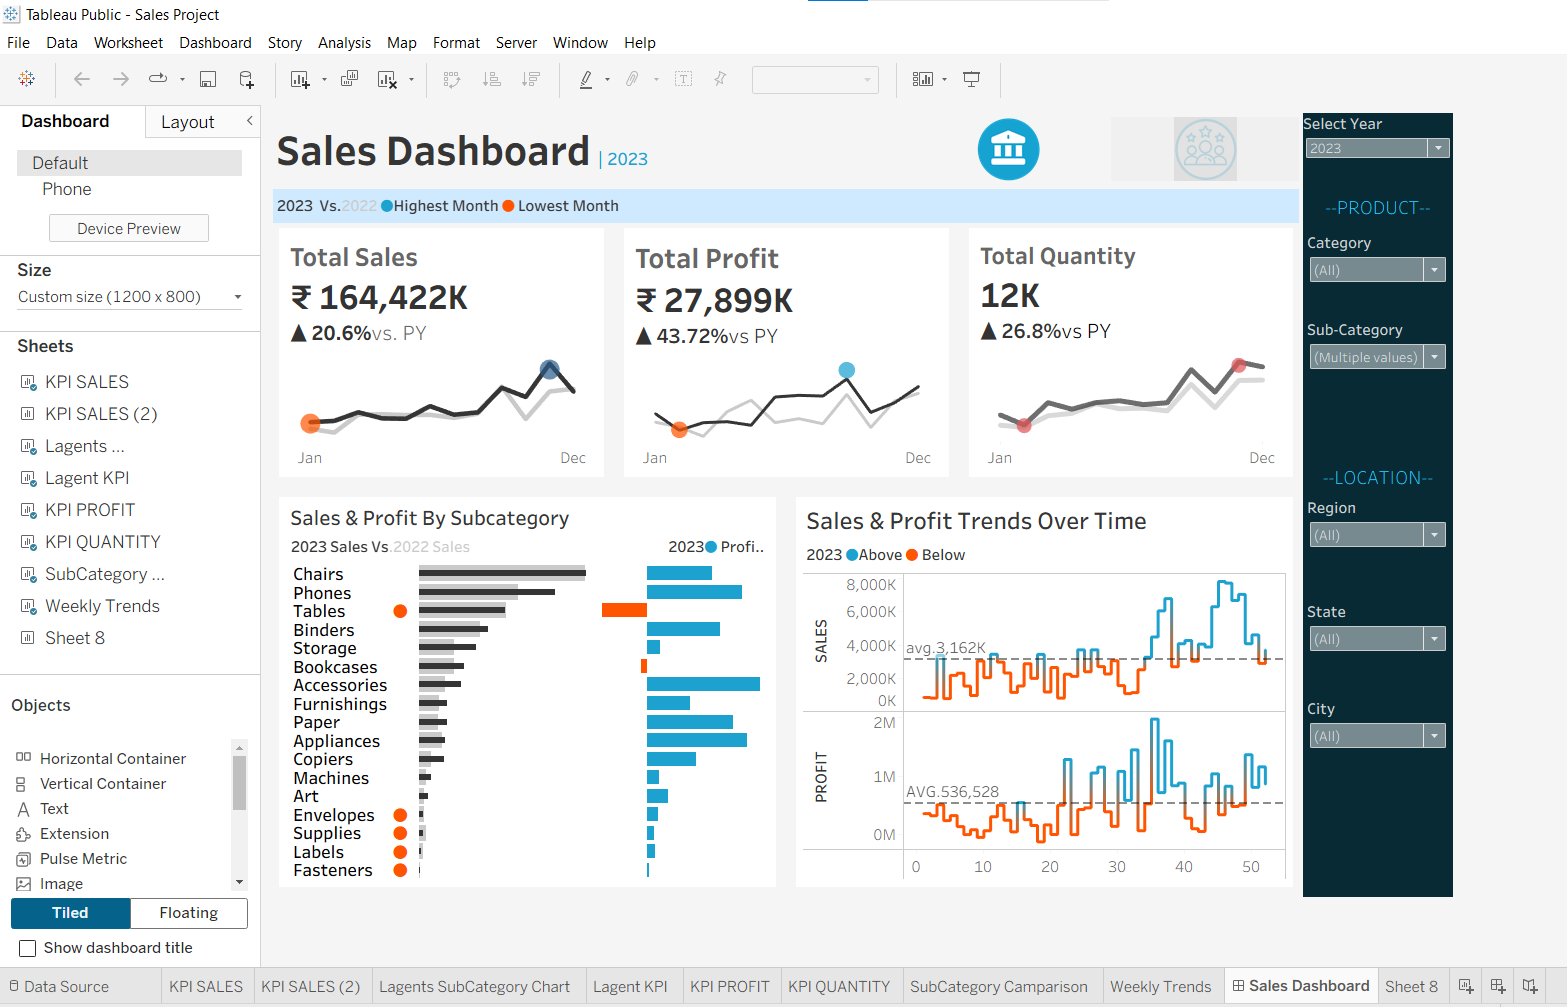

This screenshot's page, from the dashboard's own definition file:
{"tool":"tableau","page":{"name":"Sales Dashboard","canvas":[1200,800],"ordinal":0},"visuals":[{"type":"text","box":[8,8,641,72.4]},{"type":"dashboard-object","box":[649,8,197,72]},{"type":"dashboard-object","box":[846,8,196,72]},{"type":"parameter","param":"[Parameters].[ORDER DATE (Year) Parameter]","box":[1042,8,150,72]},{"type":"text","box":[1042,80,150,43]},{"type":"worksheet","title":"Lagent KPI ","mark":"Automatic","box":[8,80.4,1034,42.2]},{"type":"worksheet","title":"KPI SALES","mark":"Line","rows":["Calculation_1510113316237705222"],"cols":["Order Date"],"box":[8,123,345,259]},{"type":"worksheet","title":"KPI PROFIT","mark":"Automatic","rows":["Calculation_1510113316254085140"],"cols":["Order Date"],"box":[353,123,345,259]},{"type":"worksheet","title":"KPI QUANTITY","mark":"Automatic","rows":["Calculation_1510113316254375957"],"cols":["Order Date"],"box":[698,123,344,259]},{"type":"filter","title":"KPI SALES","param":"[federated.1n55flx0kn70yv1byavly0yhwqvj].[none:Category:nk]","box":[1042,123,150,87]},{"type":"filter","title":"KPI SALES","param":"[federated.1n55flx0kn70yv1byavly0yhwqvj].[none:Sub-Category:nk]","box":[1042,210,150,145]},{"type":"text","box":[1042,355,150,39]},{"type":"filter","title":"KPI SALES","param":"[federated.1n55flx0kn70yv1byavly0yhwqvj].[none:Region:nk]","box":[1042,394,150,104]},{"type":"text","box":[538,395,491,47]},{"type":"text","box":[22,396,489,32]},{"type":"worksheet","title":"Lagents SubCategory Chart","mark":"Automatic","box":[22,428,378,27]},{"type":"text","box":[400,428,111,27]},{"type":"text","box":[538,442,491,33]},{"type":"worksheet","title":"SubCategory Camparison","mark":"Bar","rows":["Sub-Category","Calculation_1510113316353425434"],"cols":["Calculation_1510113316225413123","Calculation_1510113316224004098","Calculation_1510113316252643342"],"box":[22,455,489,323]},{"type":"worksheet","title":"Weekly Trends","mark":"Automatic","rows":["Calculation_1510113316224004098","Calculation_1510113316252643342"],"cols":["Order Date"],"box":[538,475,491,304]},{"type":"filter","title":"KPI SALES","param":"[federated.1n55flx0kn70yv1byavly0yhwqvj].[none:State:nk]","box":[1042,498,150,97]},{"type":"filter","title":"KPI SALES","param":"[federated.1n55flx0kn70yv1byavly0yhwqvj].[none:City:nk]","box":[1042,595,150,173]}]}

Visuals, with their boxes on the page's 1200x800 design canvas (x1, y1, x2, y2). These are canvas units, not pixel positions in the 1567x1007 screenshot, which may show the page scaled, cropped or inside an application window:
text: left=8, top=8, right=649, bottom=80
dashboard-object: left=649, top=8, right=846, bottom=80
dashboard-object: left=846, top=8, right=1042, bottom=80
parameter: left=1042, top=8, right=1192, bottom=80
text: left=1042, top=80, right=1192, bottom=123
"Lagent KPI " worksheet: left=8, top=80, right=1042, bottom=123
"KPI SALES" worksheet (Line marks): left=8, top=123, right=353, bottom=382
"KPI PROFIT" worksheet: left=353, top=123, right=698, bottom=382
"KPI QUANTITY" worksheet: left=698, top=123, right=1042, bottom=382
"KPI SALES" filter: left=1042, top=123, right=1192, bottom=210
"KPI SALES" filter: left=1042, top=210, right=1192, bottom=355
text: left=1042, top=355, right=1192, bottom=394
"KPI SALES" filter: left=1042, top=394, right=1192, bottom=498
text: left=538, top=395, right=1029, bottom=442
text: left=22, top=396, right=511, bottom=428
"Lagents SubCategory Chart" worksheet: left=22, top=428, right=400, bottom=455
text: left=400, top=428, right=511, bottom=455
text: left=538, top=442, right=1029, bottom=475
"SubCategory Camparison" worksheet (Bar marks): left=22, top=455, right=511, bottom=778
"Weekly Trends" worksheet: left=538, top=475, right=1029, bottom=779
"KPI SALES" filter: left=1042, top=498, right=1192, bottom=595
"KPI SALES" filter: left=1042, top=595, right=1192, bottom=768
